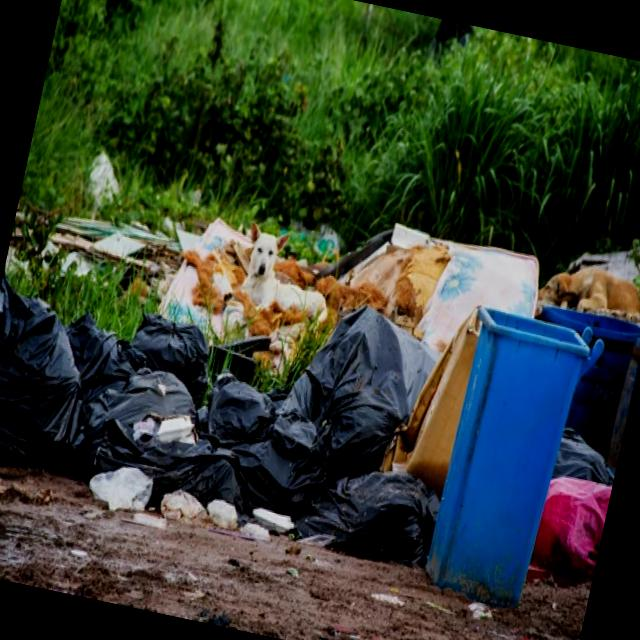garbage: (0, 234, 435, 555)
